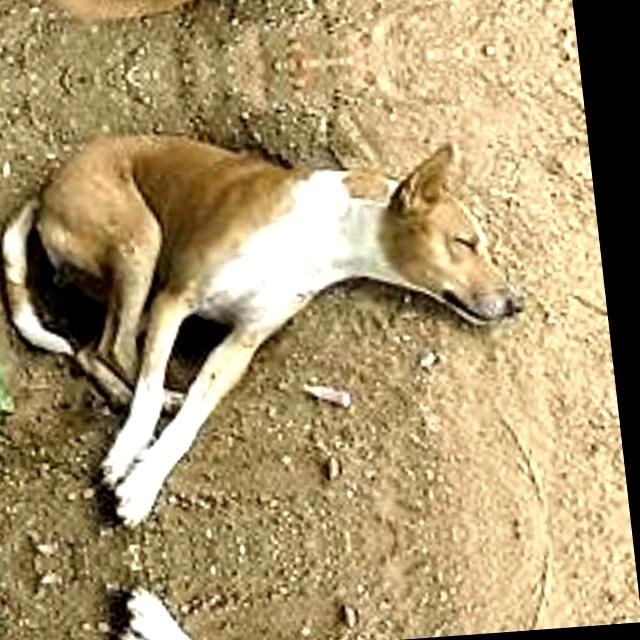dog: (0, 110, 561, 510), (17, 581, 580, 640), (0, 0, 508, 26)
